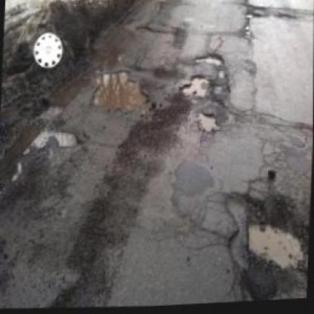Hueco: (242, 190, 308, 281), (92, 68, 150, 115), (181, 73, 209, 102), (54, 126, 79, 150), (197, 110, 221, 135), (194, 52, 224, 70)
